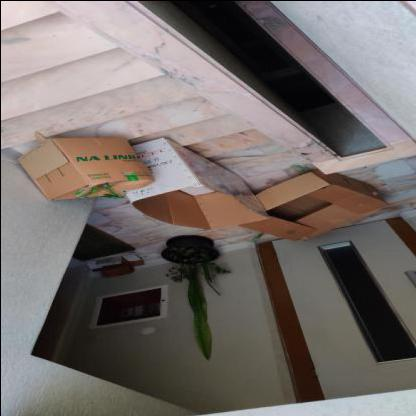Carton: (123, 137, 269, 229), (238, 167, 390, 240), (16, 130, 154, 199), (83, 254, 143, 278)
